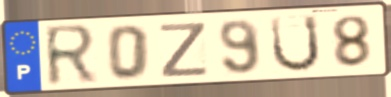0: (104, 23, 152, 83)
8: (329, 14, 374, 69)
9: (216, 17, 263, 77)
R: (42, 22, 99, 90)
U: (269, 13, 323, 74)
Z: (158, 20, 211, 80)
